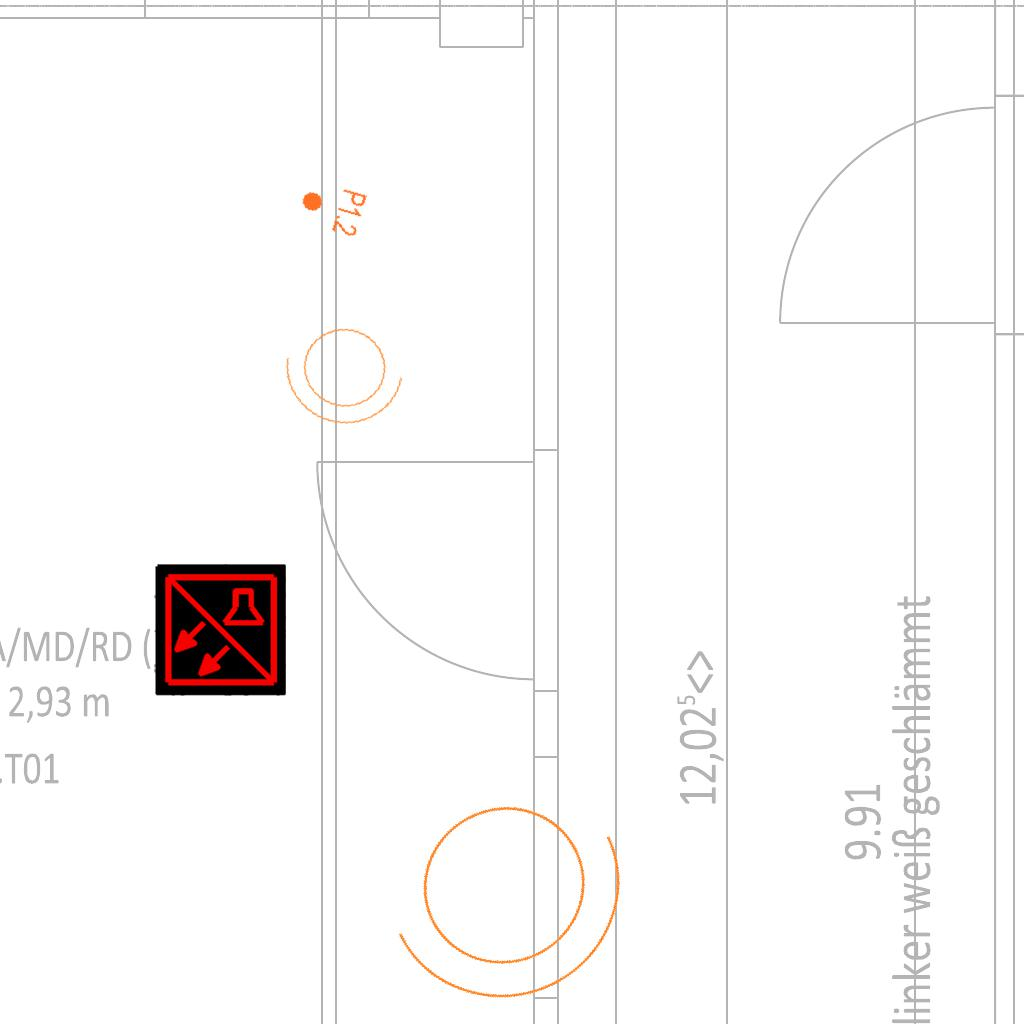Downlight_LED_Einbauleuchten_Flur: (294, 177, 370, 239)
OKW_Multisensormelder_(Kombination_optischer_Rauch-Kahlenmonoxid_Waerme-Melder): (154, 564, 286, 696)
Scheinwerfer_fuer_Alarmbeleuchtung: (346, 733, 682, 1024), (272, 306, 422, 440)
